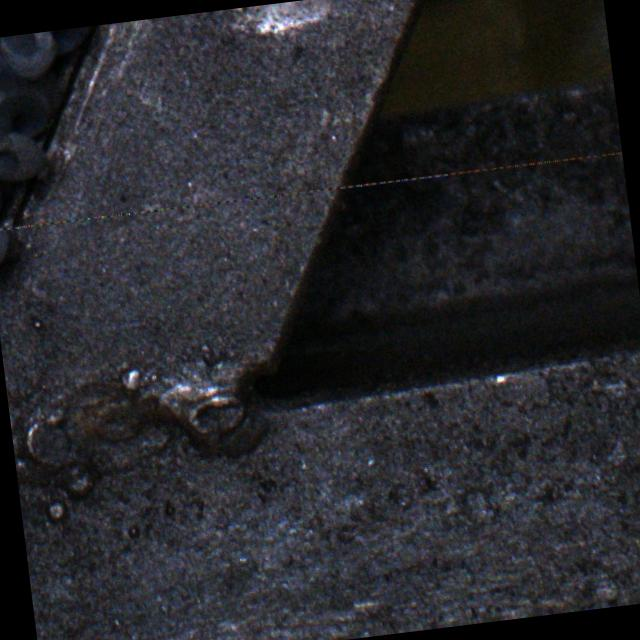tool_b: (0, 31, 60, 184), (0, 24, 107, 80), (0, 146, 8, 228)
